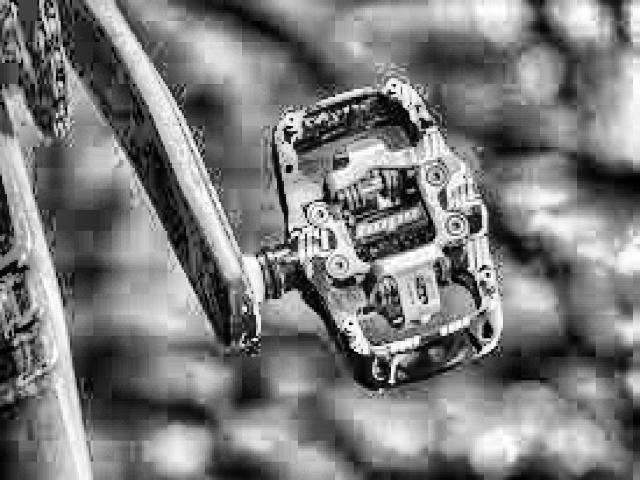pedal: (250, 77, 507, 396)
